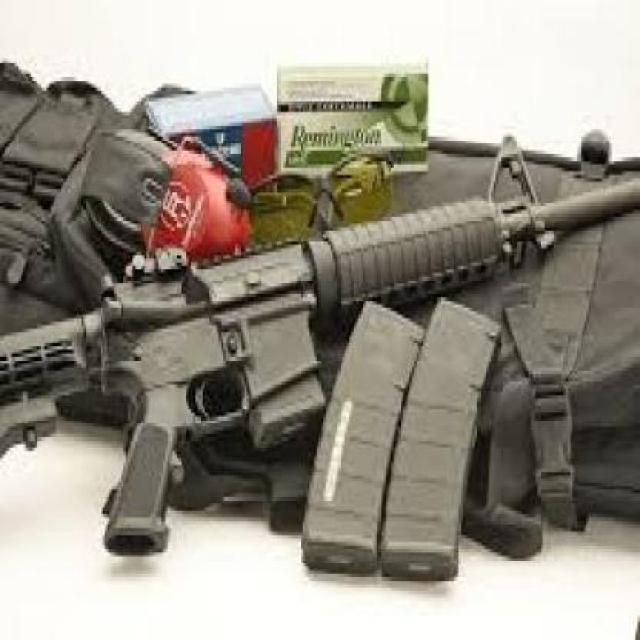weapon: (3, 112, 638, 571)
